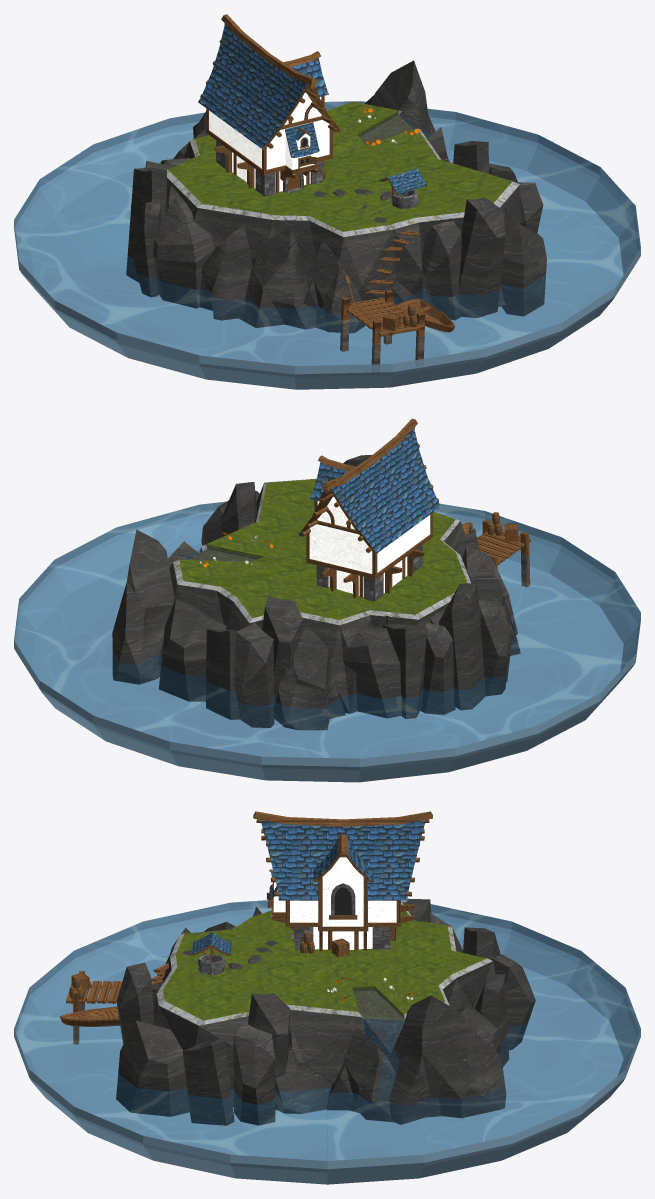
3 renders of one model, top to bottom at view 1: azimuth 30°, elevation 25°; view 2: azimuth 150°, elevation 25°; view 3: azimuth 270°, elevation 25°, orthographic.
Parts seen in each view (by area): view 1: pDisc1_WaterD_0, pDisc1_WaterL_0, polySurface32_Stone_0, polySurface32_Grass_0, polySurface10_Roof_0, polySurface10_Wood_0, polySurface10_plaster_0, polySurface32_moss_0, polySurface10_cobble_0, polySurface1_WaterL_0, polySurface32_Dirt_0, pCube22_Wood_0 (+1 smaller); view 2: pDisc1_WaterD_0, pDisc1_WaterL_0, polySurface32_Stone_0, polySurface32_Grass_0, polySurface10_Roof_0, polySurface10_plaster_0, polySurface10_Wood_0, polySurface32_moss_0, polySurface10_cobble_0, polySurface1_WaterL_0, polySurface32_Dirt_0; view 3: pDisc1_WaterD_0, pDisc1_WaterL_0, polySurface32_Stone_0, polySurface32_Grass_0, polySurface10_Roof_0, polySurface10_Wood_0, polySurface10_plaster_0, polySurface1_WaterL_0, polySurface32_moss_0, polySurface32_Dirt_0, polySurface10_cobble_0, pCube22_Wood_0.
Boxes of the visible parts, x1,y1,x2,y2 form: pDisc1_WaterD_0: (14,101,640,389); pDisc1_WaterL_0: (14,101,640,365); polySurface32_Stone_0: (126,60,546,333); polySurface32_Grass_0: (168,101,512,231); polySurface10_Roof_0: (198,24,328,157); polySurface10_Wood_0: (200,14,340,192); polySurface10_plaster_0: (209,92,329,192); polySurface32_moss_0: (167,110,519,236); polySurface10_cobble_0: (216,137,322,196); polySurface1_WaterL_0: (359,113,430,144); polySurface32_Dirt_0: (358,113,413,145); pCube22_Wood_0: (397,299,454,332); pDisc1_WaterD_0: (14,501,640,782); pDisc1_WaterL_0: (14,502,640,758); polySurface32_Stone_0: (112,455,520,730); polySurface32_Grass_0: (179,479,467,619); polySurface10_Roof_0: (298,428,440,553); polySurface10_plaster_0: (309,496,430,597); polySurface10_Wood_0: (300,418,438,597); polySurface32_moss_0: (173,478,470,625); polySurface10_cobble_0: (316,545,422,601); polySurface1_WaterL_0: (183,546,258,561); polySurface32_Dirt_0: (188,546,259,561); pDisc1_WaterD_0: (14,900,640,1184); pDisc1_WaterL_0: (14,900,640,1160); polySurface32_Stone_0: (116,898,535,1125); polySurface32_Grass_0: (163,910,486,1020); polySurface10_Roof_0: (261,820,425,900); polySurface10_Wood_0: (253,811,432,951); polySurface10_plaster_0: (271,857,396,949); polySurface1_WaterL_0: (353,988,404,1102); polySurface32_moss_0: (156,901,492,1025); polySurface32_Dirt_0: (353,988,405,1020); polySurface10_cobble_0: (273,882,390,950); pCube22_Wood_0: (60,1006,120,1026).
Size of the model in its own units: 185 by 72.69 by 185.
Materials: 18 (10 with a texture image).
